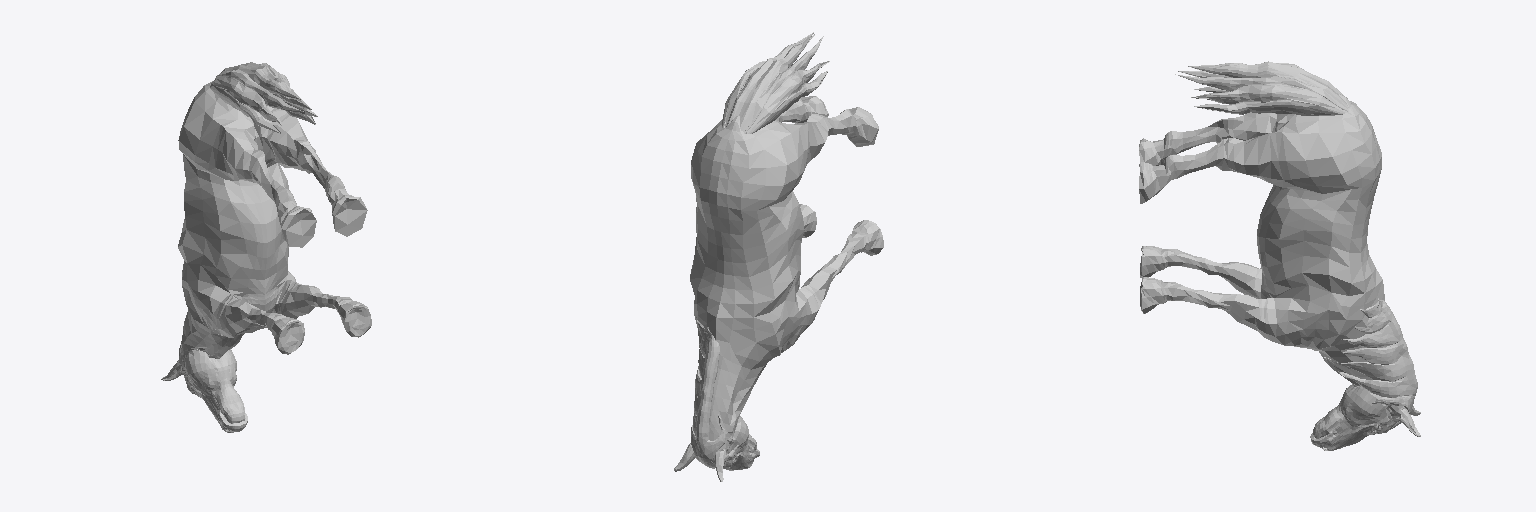
Rendered from LD_HorseRtime 2.obj.
The picture shows the model from 3 angles: view 1: azimuth 30°, elevation 25°; view 2: azimuth 150°, elevation 25°; view 3: azimuth 270°, elevation 25°; orthographic projection.
Visible parts, largest first — view 1: Plane, BezierCurve.005_Mesh.005; view 2: Plane, BezierCurve.005_Mesh.005, BezierCurve_Mesh; view 3: Plane, BezierCurve.005_Mesh.005, BezierCurve_Mesh.
Boxes of the visible parts, x1,y1,x2,y2 form: Plane: [161, 81, 371, 432]; BezierCurve.005_Mesh.005: [210, 62, 317, 133]; Plane: [674, 96, 883, 481]; BezierCurve.005_Mesh.005: [722, 32, 829, 133]; BezierCurve_Mesh: [691, 317, 738, 468]; Plane: [1139, 94, 1420, 450]; BezierCurve.005_Mesh.005: [1175, 61, 1348, 115]; BezierCurve_Mesh: [1324, 298, 1417, 434].
Size of the model in its own units: 1.94 by 7.24 by 4.8.